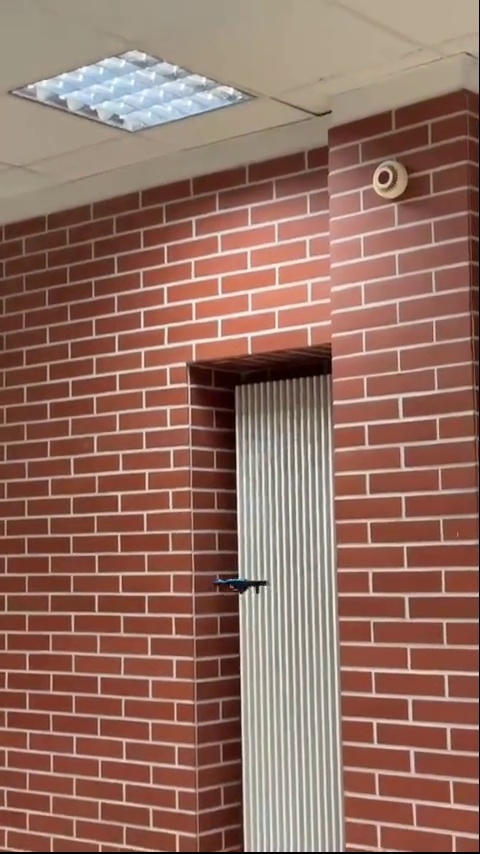drone: (213, 577, 270, 600)
